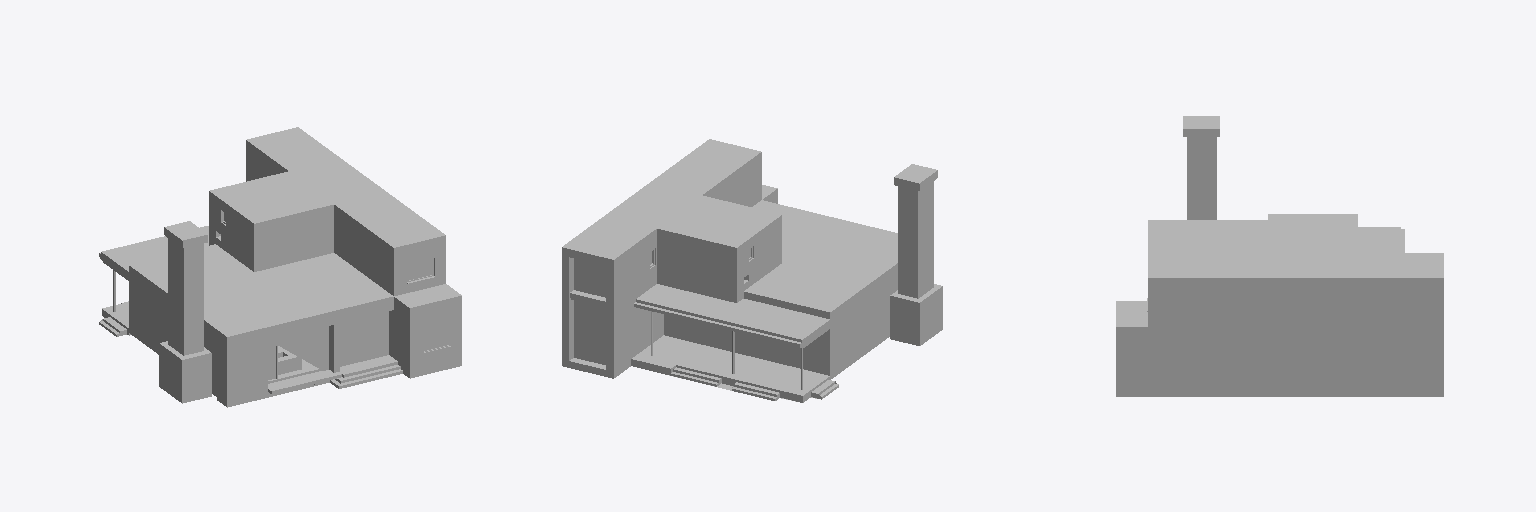
The model's file is Casa moderna.obj.
The picture shows the model from 3 angles: view 1: azimuth 30°, elevation 25°; view 2: azimuth 150°, elevation 25°; view 3: azimuth 270°, elevation 25°; orthographic projection.
Visible parts, largest first — view 1: Mesh84 Model; view 2: Mesh84 Model; view 3: Mesh84 Model.
Boxes of the visible parts, <box> form: Mesh84 Model: <box>99,127,461,407</box>; Mesh84 Model: <box>562,139,942,402</box>; Mesh84 Model: <box>1116,116,1443,396</box>.
Bounding box in the file's own units: 13.83 × 8.54 × 15.83.